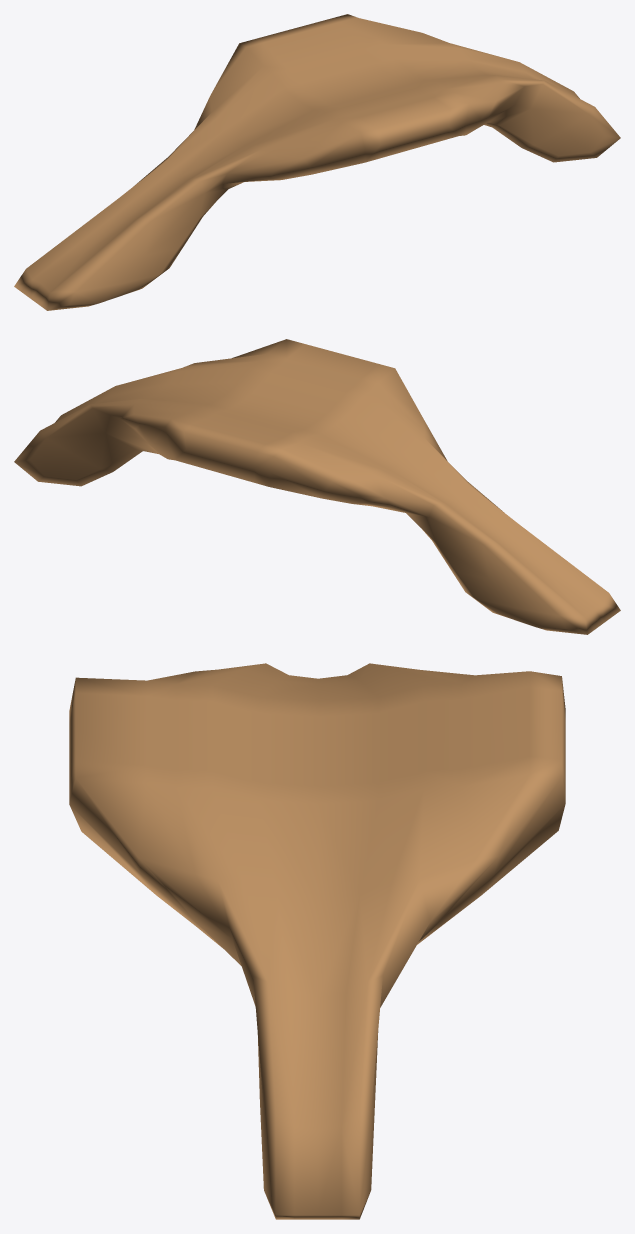
Rendered from terrain_W4lakeb.fbx.
3 views of the same model, one above another, from view 1: azimuth 30°, elevation 25°; view 2: azimuth 150°, elevation 25°; view 3: azimuth 270°, elevation 25° (orthographic). The views are drawn at different scales.
Visible parts, largest first — view 1: W4lakeb_mesh; view 2: W4lakeb_mesh; view 3: W4lakeb_mesh.
Part boxes in pixels (<box>): W4lakeb_mesh: <box>14,14,620,310</box>; W4lakeb_mesh: <box>14,339,620,634</box>; W4lakeb_mesh: <box>69,663,565,1219</box>.
Size of the model in its own units: 9783 by 2499 by 3628.
